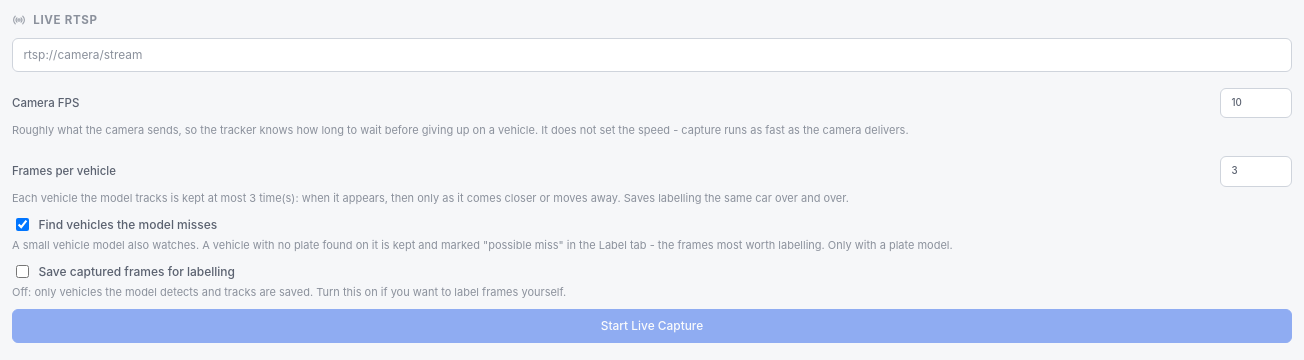
it: Keeping the frames a live session captures › counts the frames it kept, and only once there are some
In the field with placeholder "rtsp://camera/stream": (652, 55) [12,38,1292,72], type "rtsp://camera/ch1"
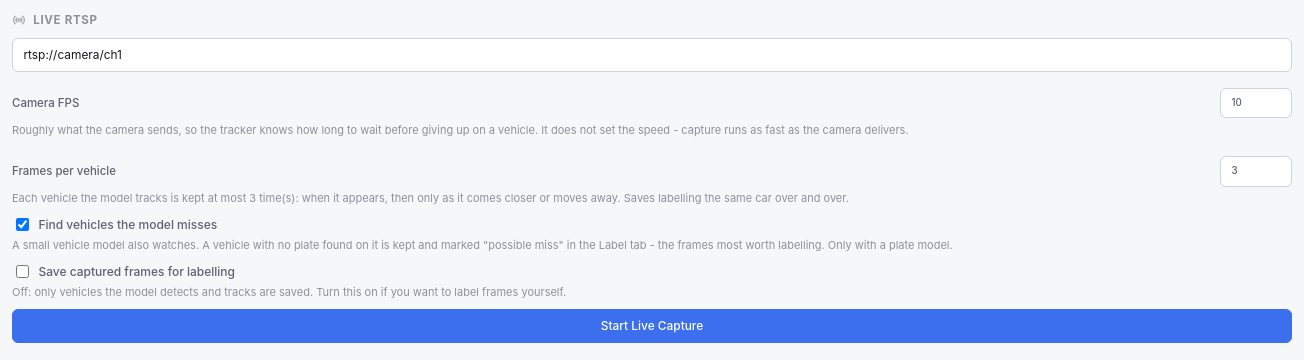
Click the button "Start Live Capture": (652, 326) [12,309,1292,343]
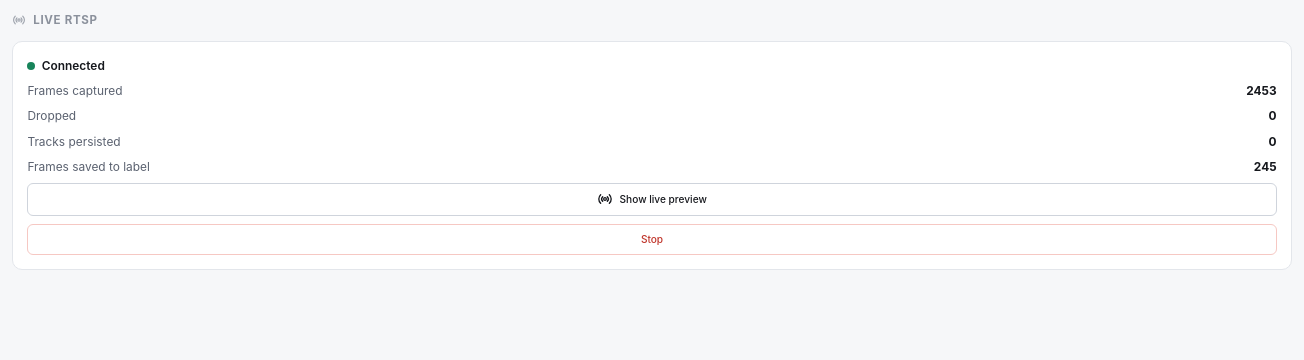
Check: the text "Frames captured" is shown, box [27,82,122,99]
Check: the text "Frames saved to label" is shown, box [27,158,150,175]
